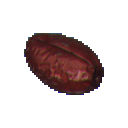ng: (21, 28, 111, 99)
